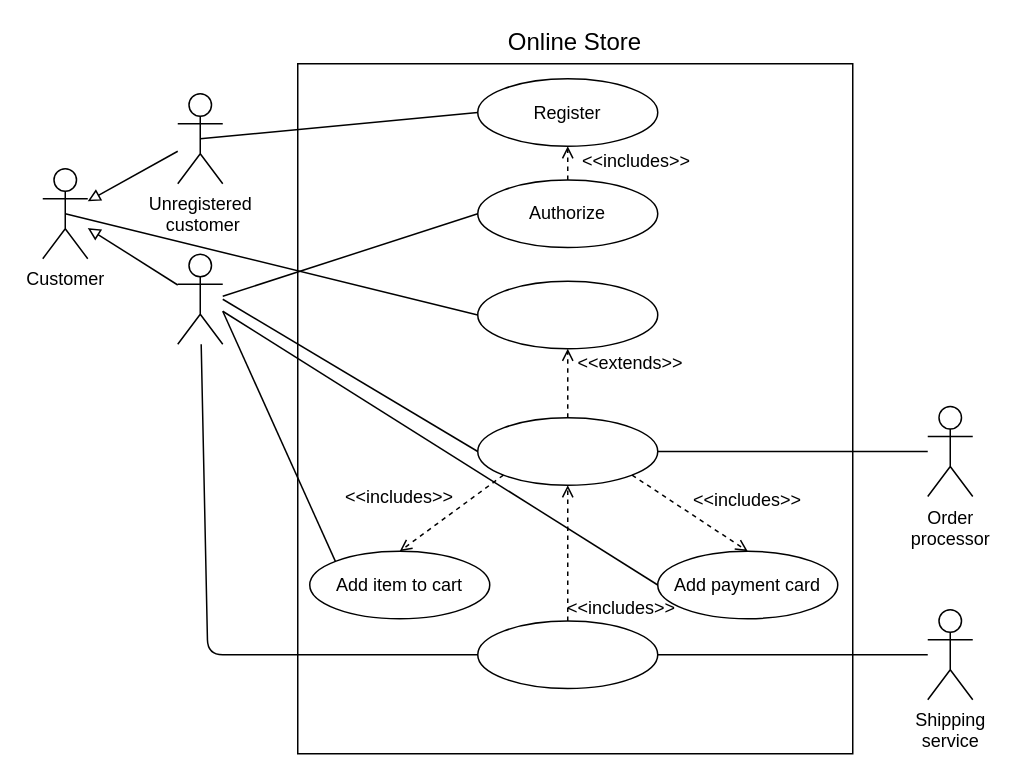
The diagram is 1016 pixels wide and 780 high, and some of its shapes have lost their labels. The shapes that lost their labels are listed below. From the top down, each one's centre as x and y in pixels, then its label:
At pixel 199 298: "Registered customer".
At pixel 567 314: "View items".
At pixel 567 450: "Buy items".
At pixel 567 654: "Deliver items".
